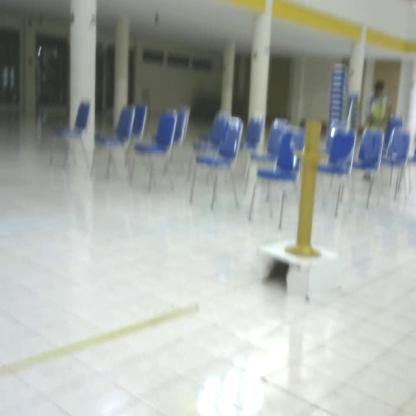pole: (282, 118, 332, 263)
